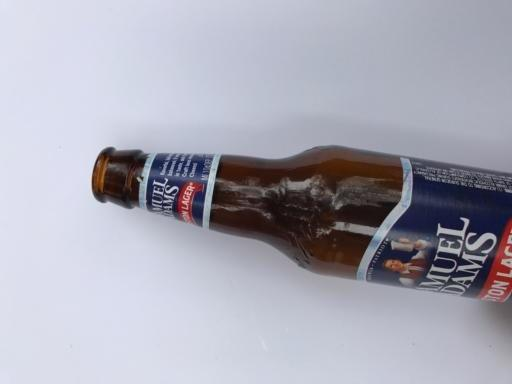botolkaca: (93, 144, 512, 299)
